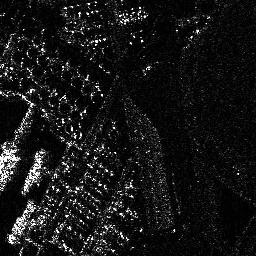ship: (19, 148, 49, 195), (7, 201, 39, 244)
